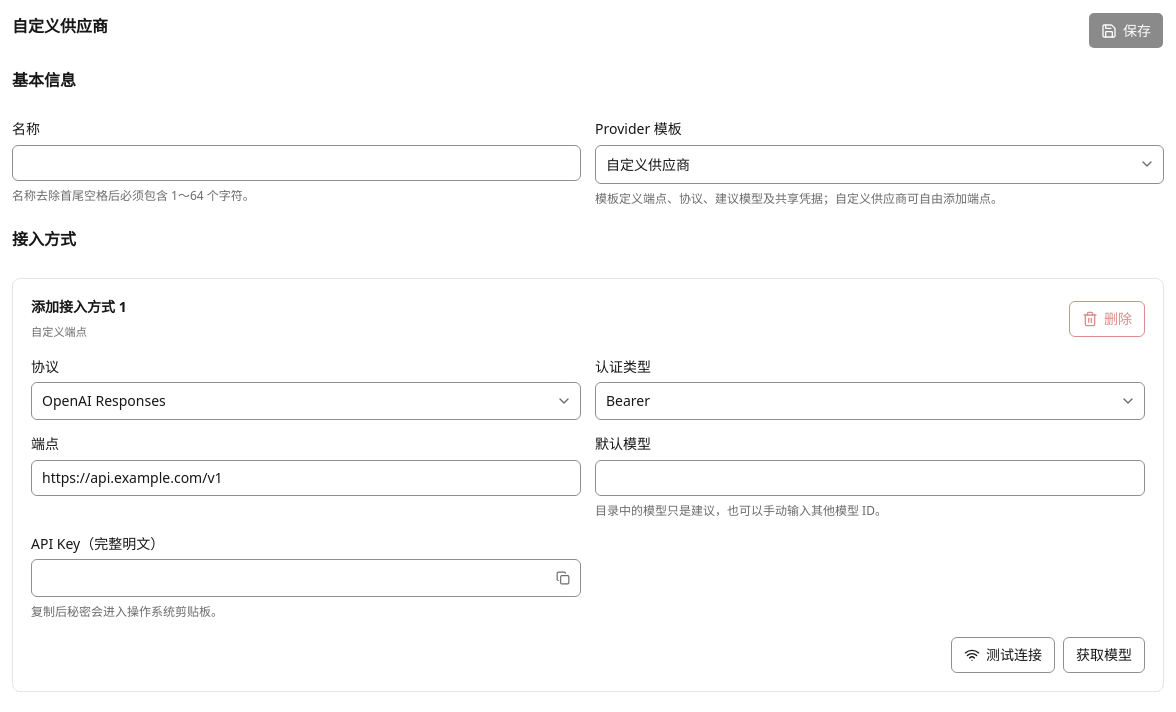
ApiProviderEditor › fetches models for an unsaved provider and selects the first result
Type "unsaved-secret" into the field labelled "API Key（完整明文）". click: (290, 578)
box: [32,560,549,596]
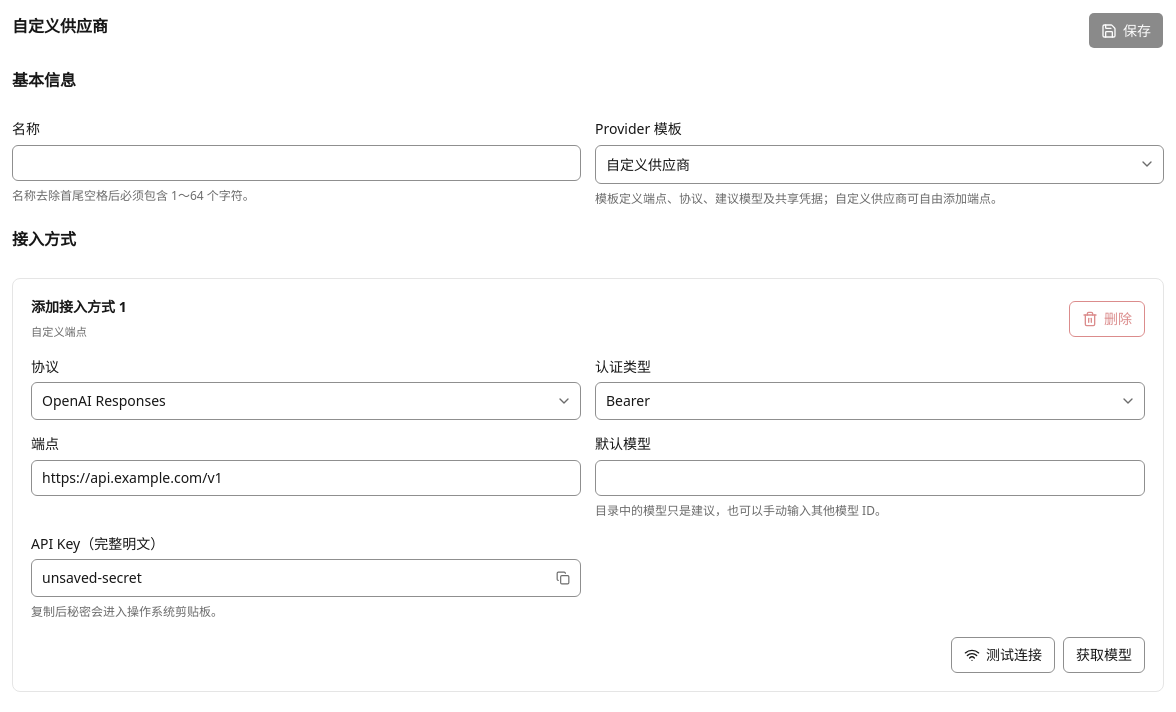
Click the button "获取模型". click: (1104, 655)
box: [1063,637,1145,673]
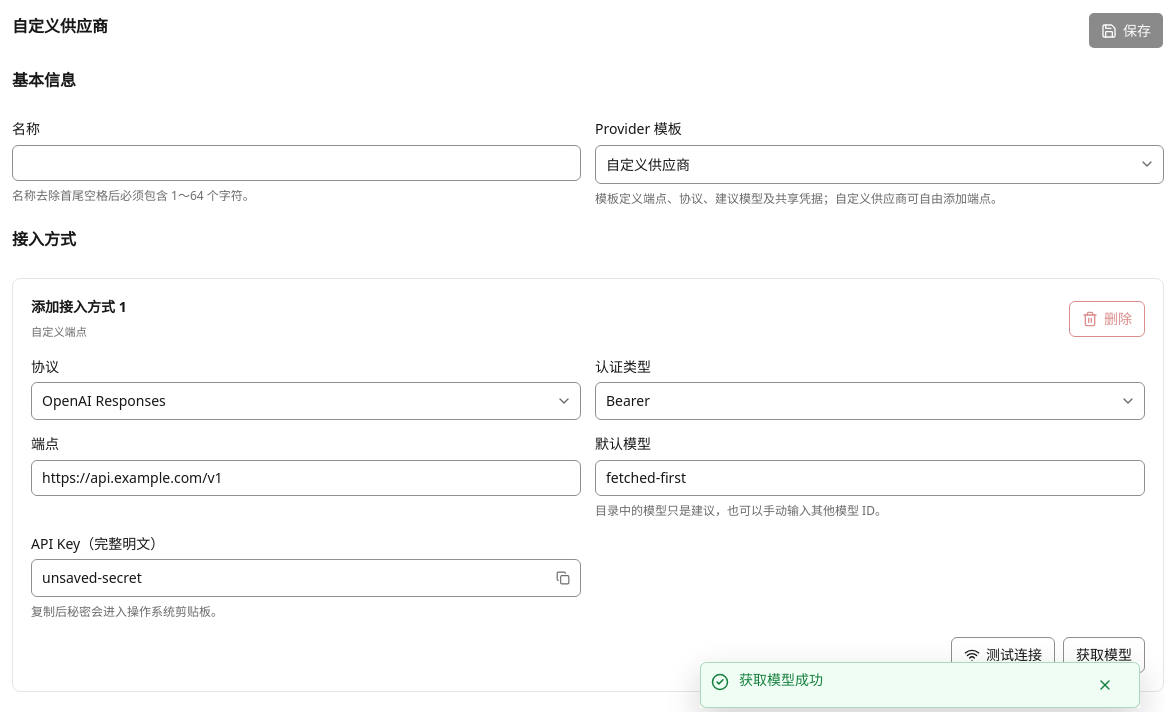
Expected: the field labelled "默认模型" holds "fetched-first", [595,460,1145,496]
Expected: the text "获取模型成功" is shown, [739,670,823,689]
